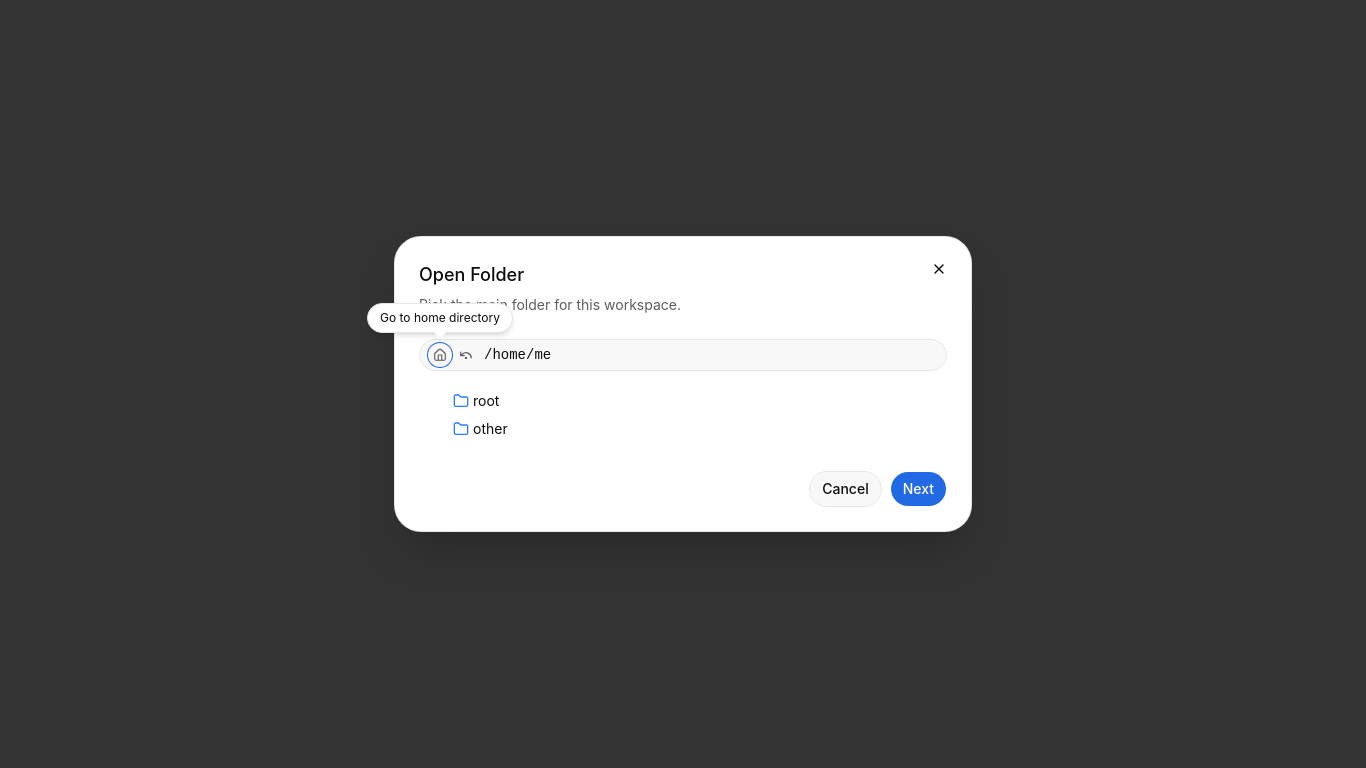
Scenario: WorkspaceFolderDialog — creation flow › opens the picked folder and advances to the linking step
expect the field showing "/home/me" is shown: met, box [478,339,946,371]
What coordinates should you click on to do the following:
click the button "root"
I would click on:
 (461, 401)
Its box is [423,387,943,415].
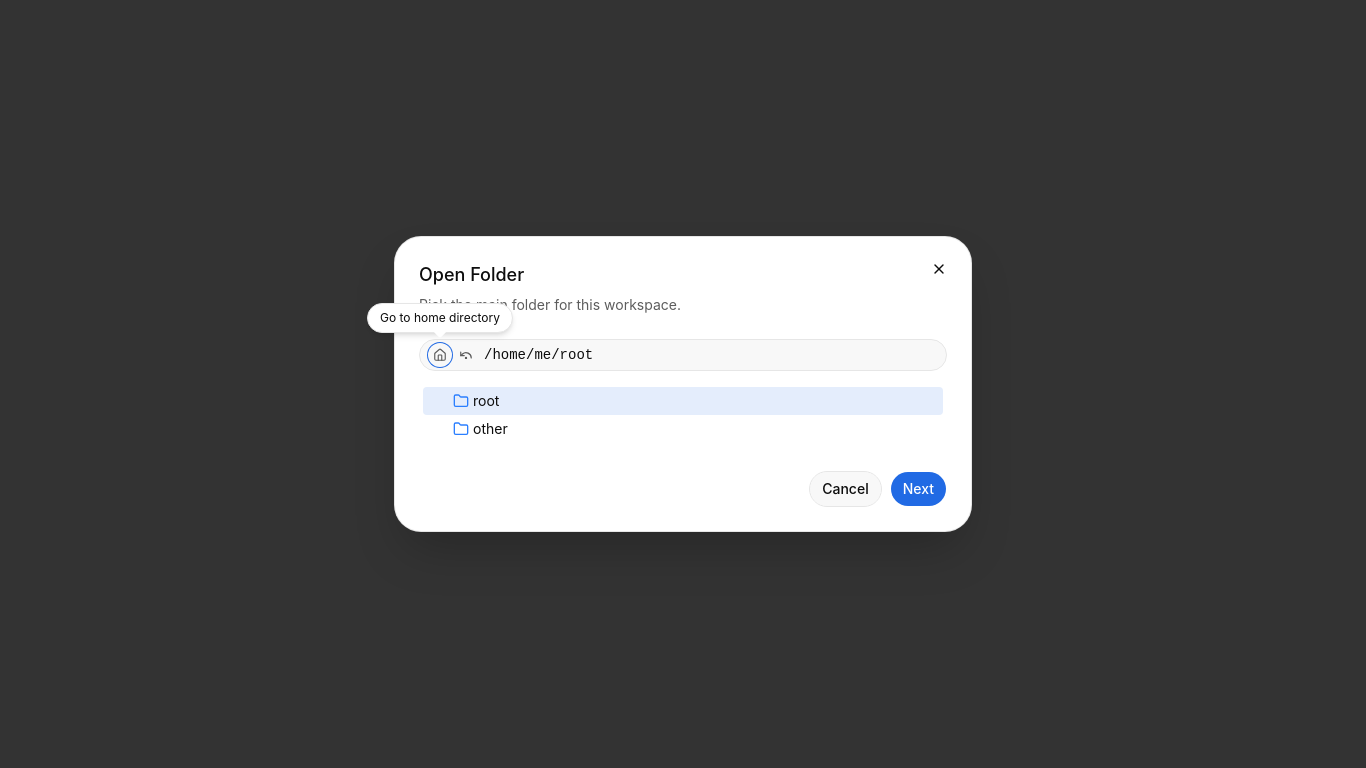
What coordinates should you click on to do the following:
click the button "Next"
I would click on:
 (918, 489)
Its box is [890,471,947,507].
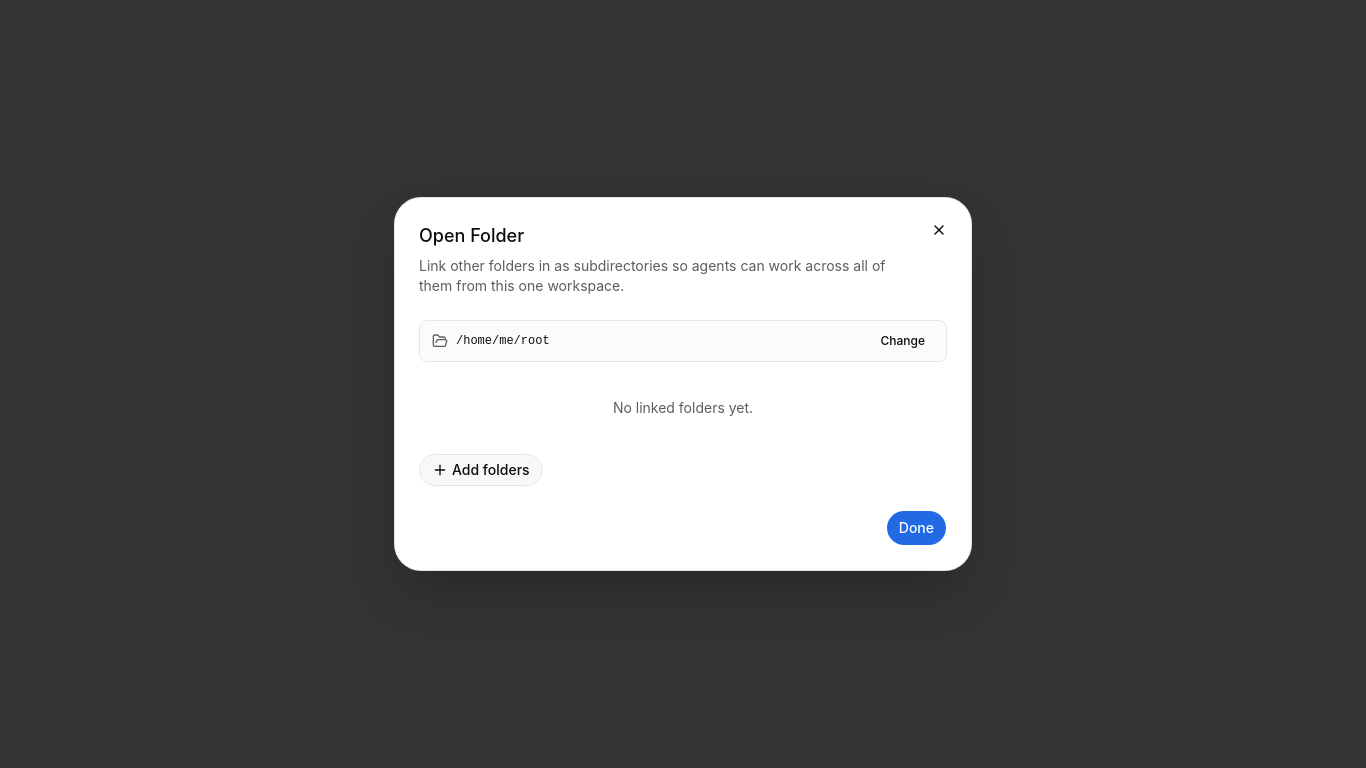
expect the text "/home/me/root" is shown: met, box [456,334,550,348]
expect the button "Add folders" is shown: met, box [419,454,543,486]
